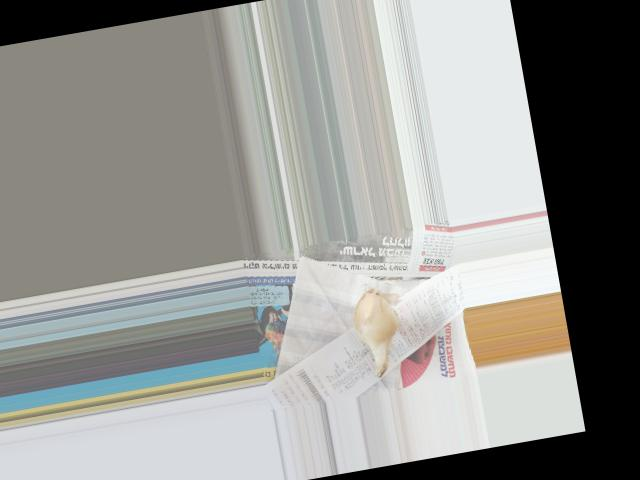onion: (348, 293, 403, 353)
